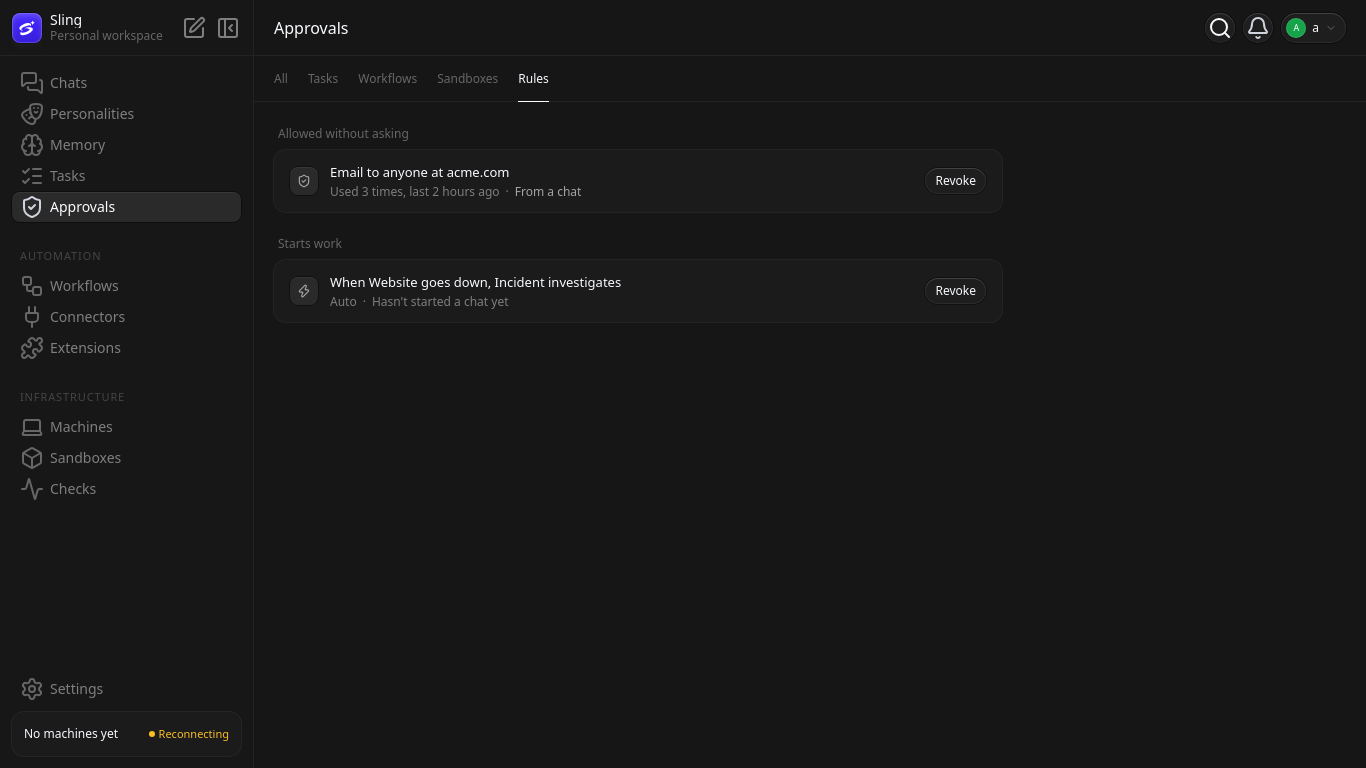
Test case: Approvals → Rules › lists the rules in force by kind, and revokes one
The image size is (1366, 768).
Expected: the text "Email to anyone at acme.com" is shown, [330,163,509,181]
Expected: the text "Used 3 times, last 2 hours ago" is shown, [330,184,500,200]
Click the button "Revoke" in the row of "Email to anyone at acme.com": (956, 181) [926,168,986,194]
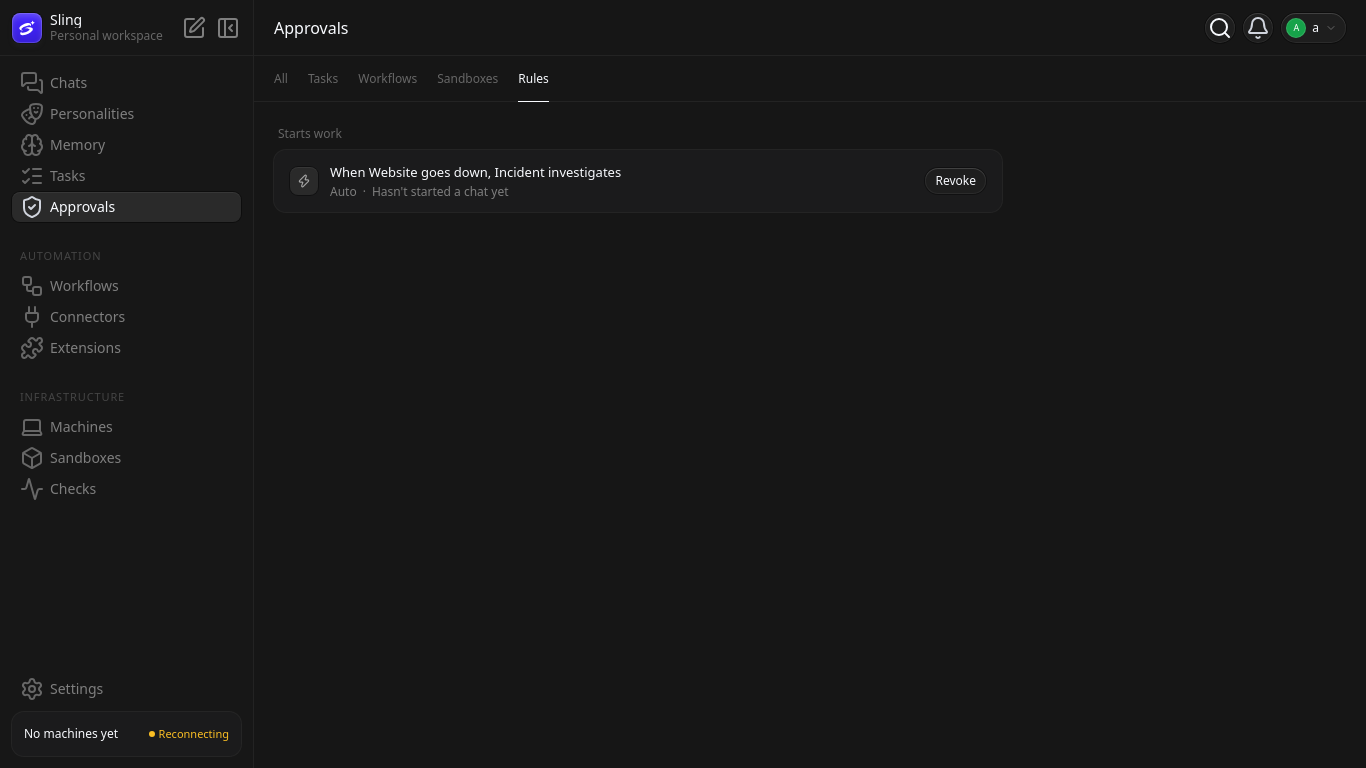
Expected: the heading "Allowed without asking" is gone
